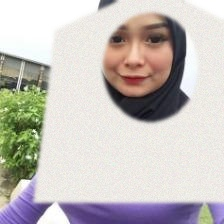Mukena: (38, 0, 224, 202)
